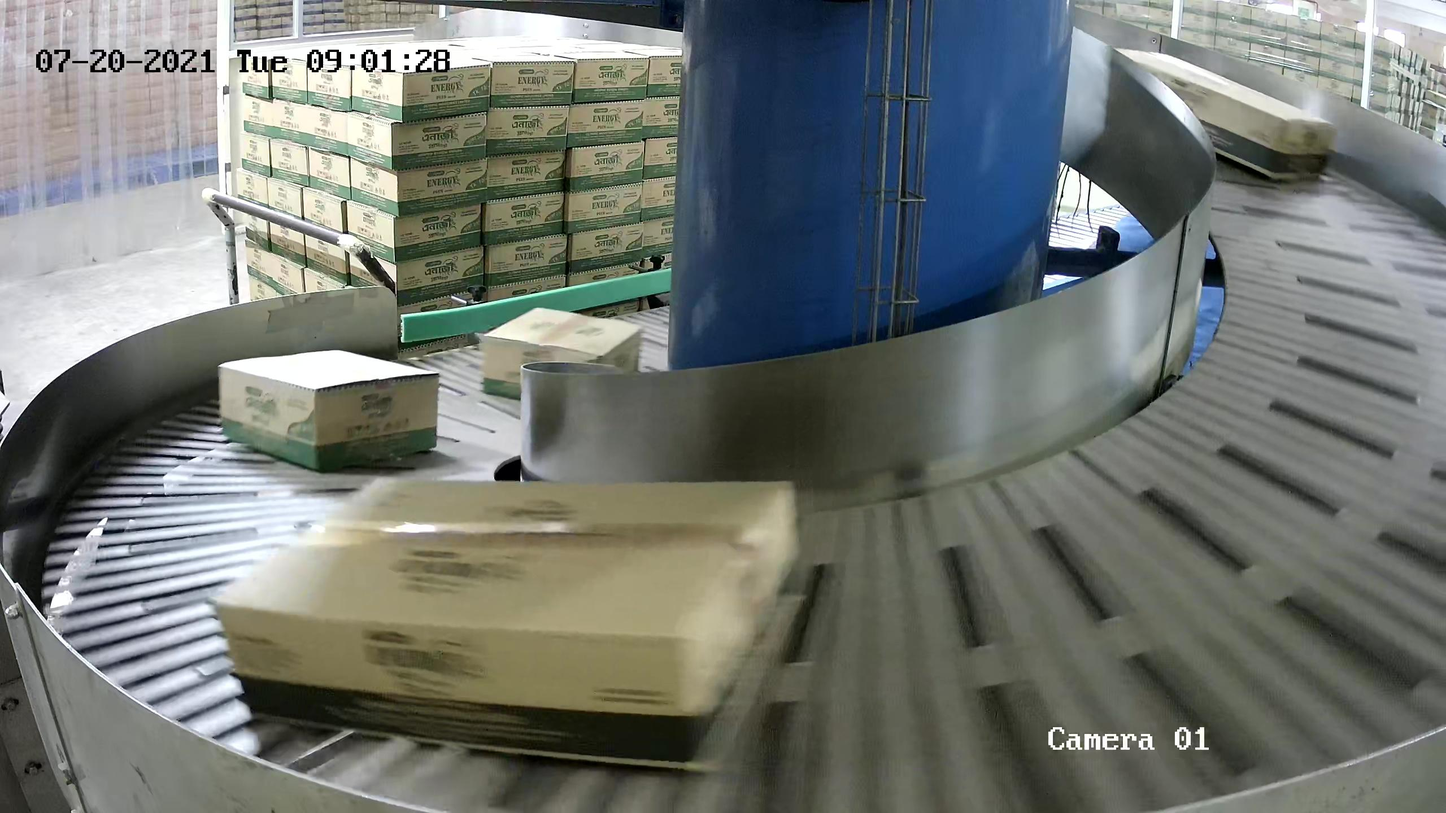Box: (207, 467, 803, 783), (1107, 47, 1334, 182), (216, 347, 442, 474), (480, 305, 643, 402)
